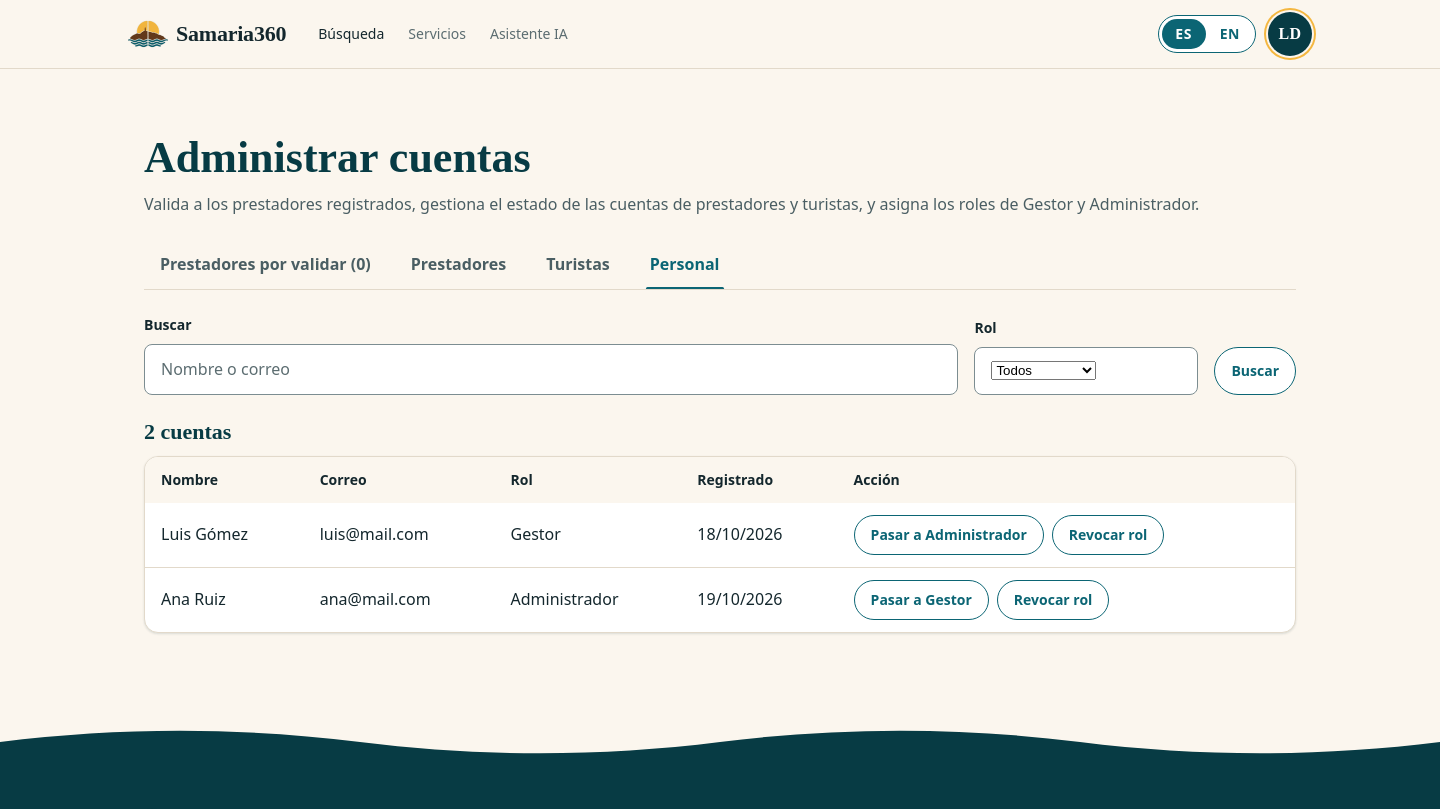
Test case: Cambiar rol desde «Personal» (RF45, DEC-118, DEC-120) › revocar: avisa que recupera sus datos de turista, envía rolNuevo Turista y la fila sale de «Personal»
The width and height of the screenshot is (1440, 809).
Click the button named "Revocar rol: Ana Ruiz" at (1053, 600), box [997,580,1109,620]
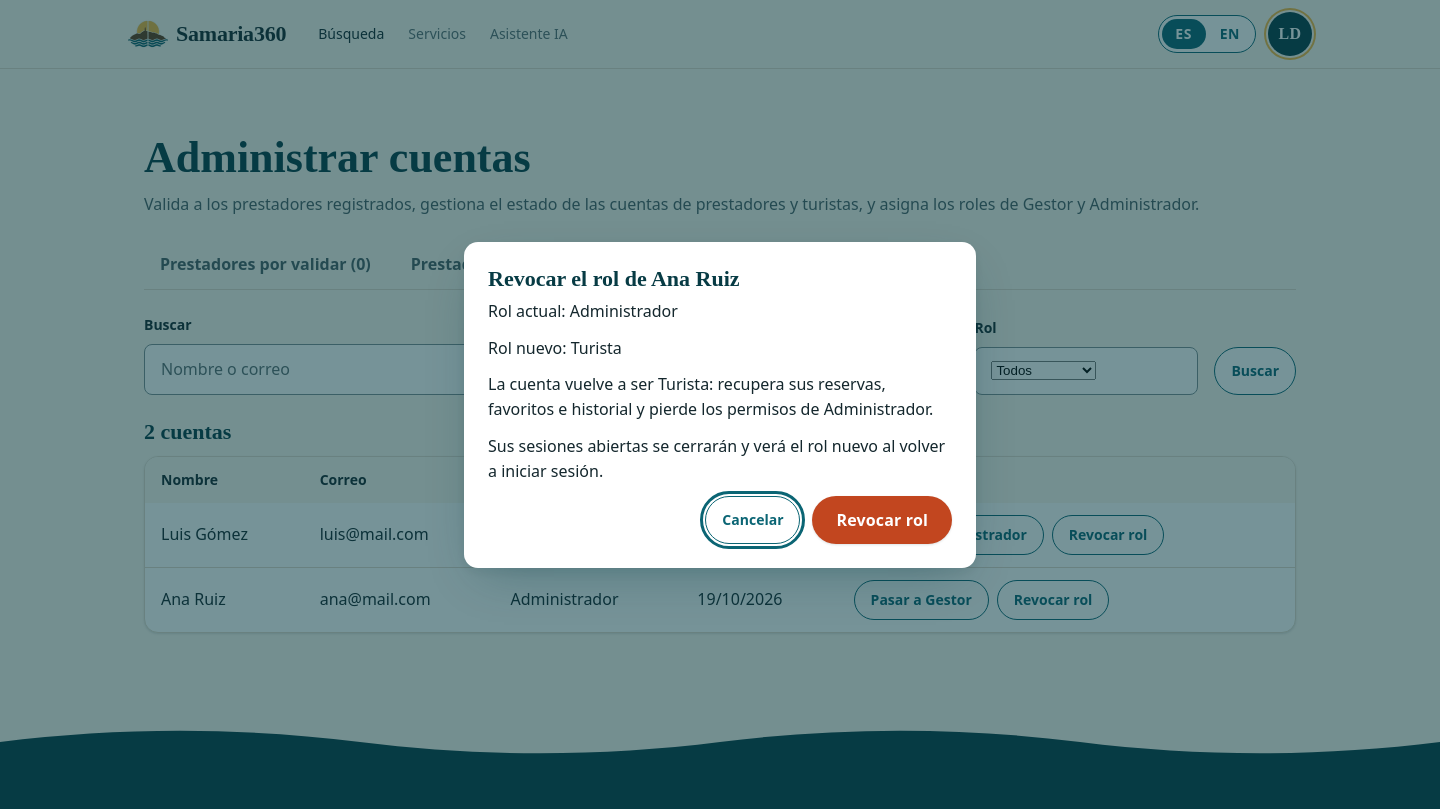
Expected: the dialog shows "La cuenta vuelve a ser Turista: recupera sus reservas, favoritos e historial y pierde los permisos de Administrador.", [488,374,933,420]
Click the button "Revocar rol" at (882, 520), box [812,496,952,544]
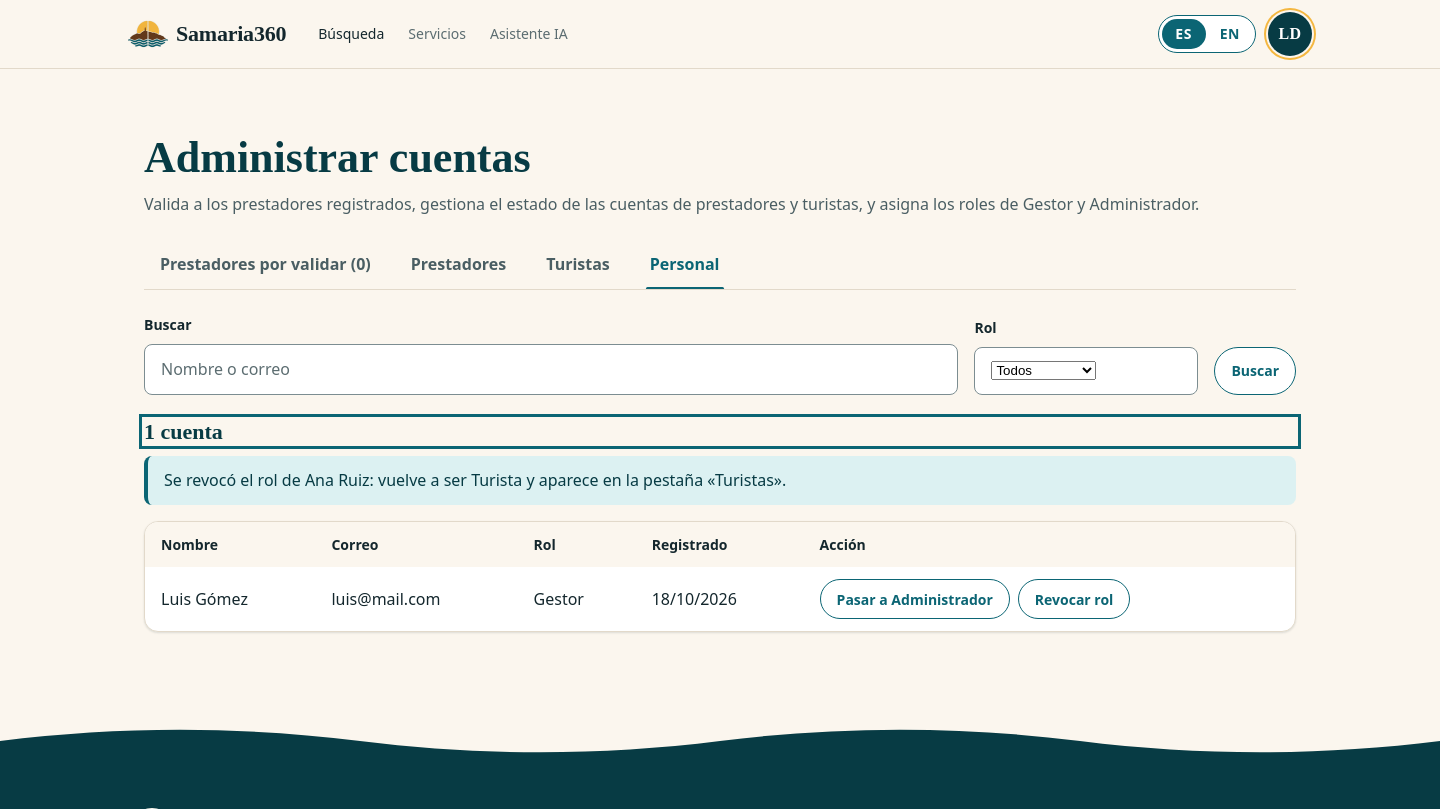
Expected: the text "Se revocó el rol de Ana Ruiz: vuelve a ser Turista y aparece en la pestaña «Turistas»." is shown, [164,469,786,491]
Expected: the text "Se revocó el rol de Ana Ruiz: vuelve a ser Turista y aparece en la pestaña «Turistas»." is shown once, [144,456,1296,505]
Expected: the text "ana@mail.com" is gone
